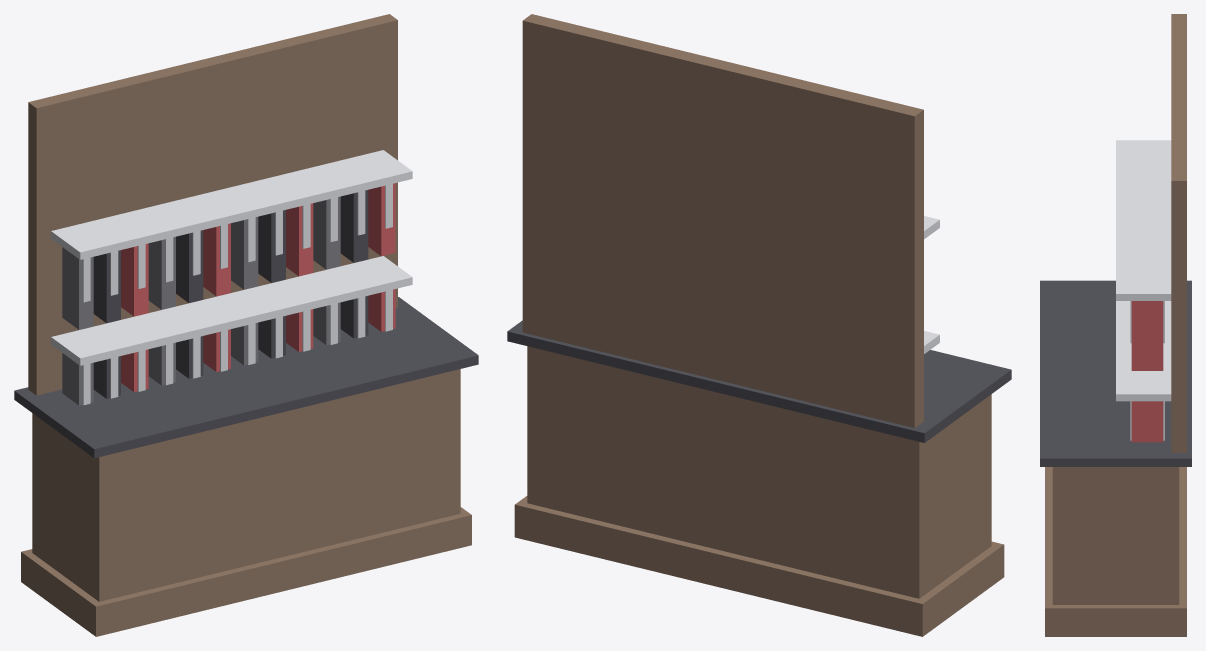
Rendered from casino-floor-and-back-rooms-coat-check-e4005493__27059.glb.
3 renders of one model, left to right at view 1: azimuth 30°, elevation 25°; view 2: azimuth 150°, elevation 25°; view 3: azimuth 270°, elevation 25°, orthographic. The views are drawn at different scales.
Parts seen in each view (by area): view 1: coat-check; view 2: coat-check; view 3: coat-check.
Boxes of the visible parts, bbox=[...] form: coat-check: bbox=[14, 14, 478, 636]; coat-check: bbox=[507, 14, 1011, 636]; coat-check: bbox=[1040, 14, 1191, 636].
Size of the model in its own units: 2.66 by 3.16 by 0.9599.
